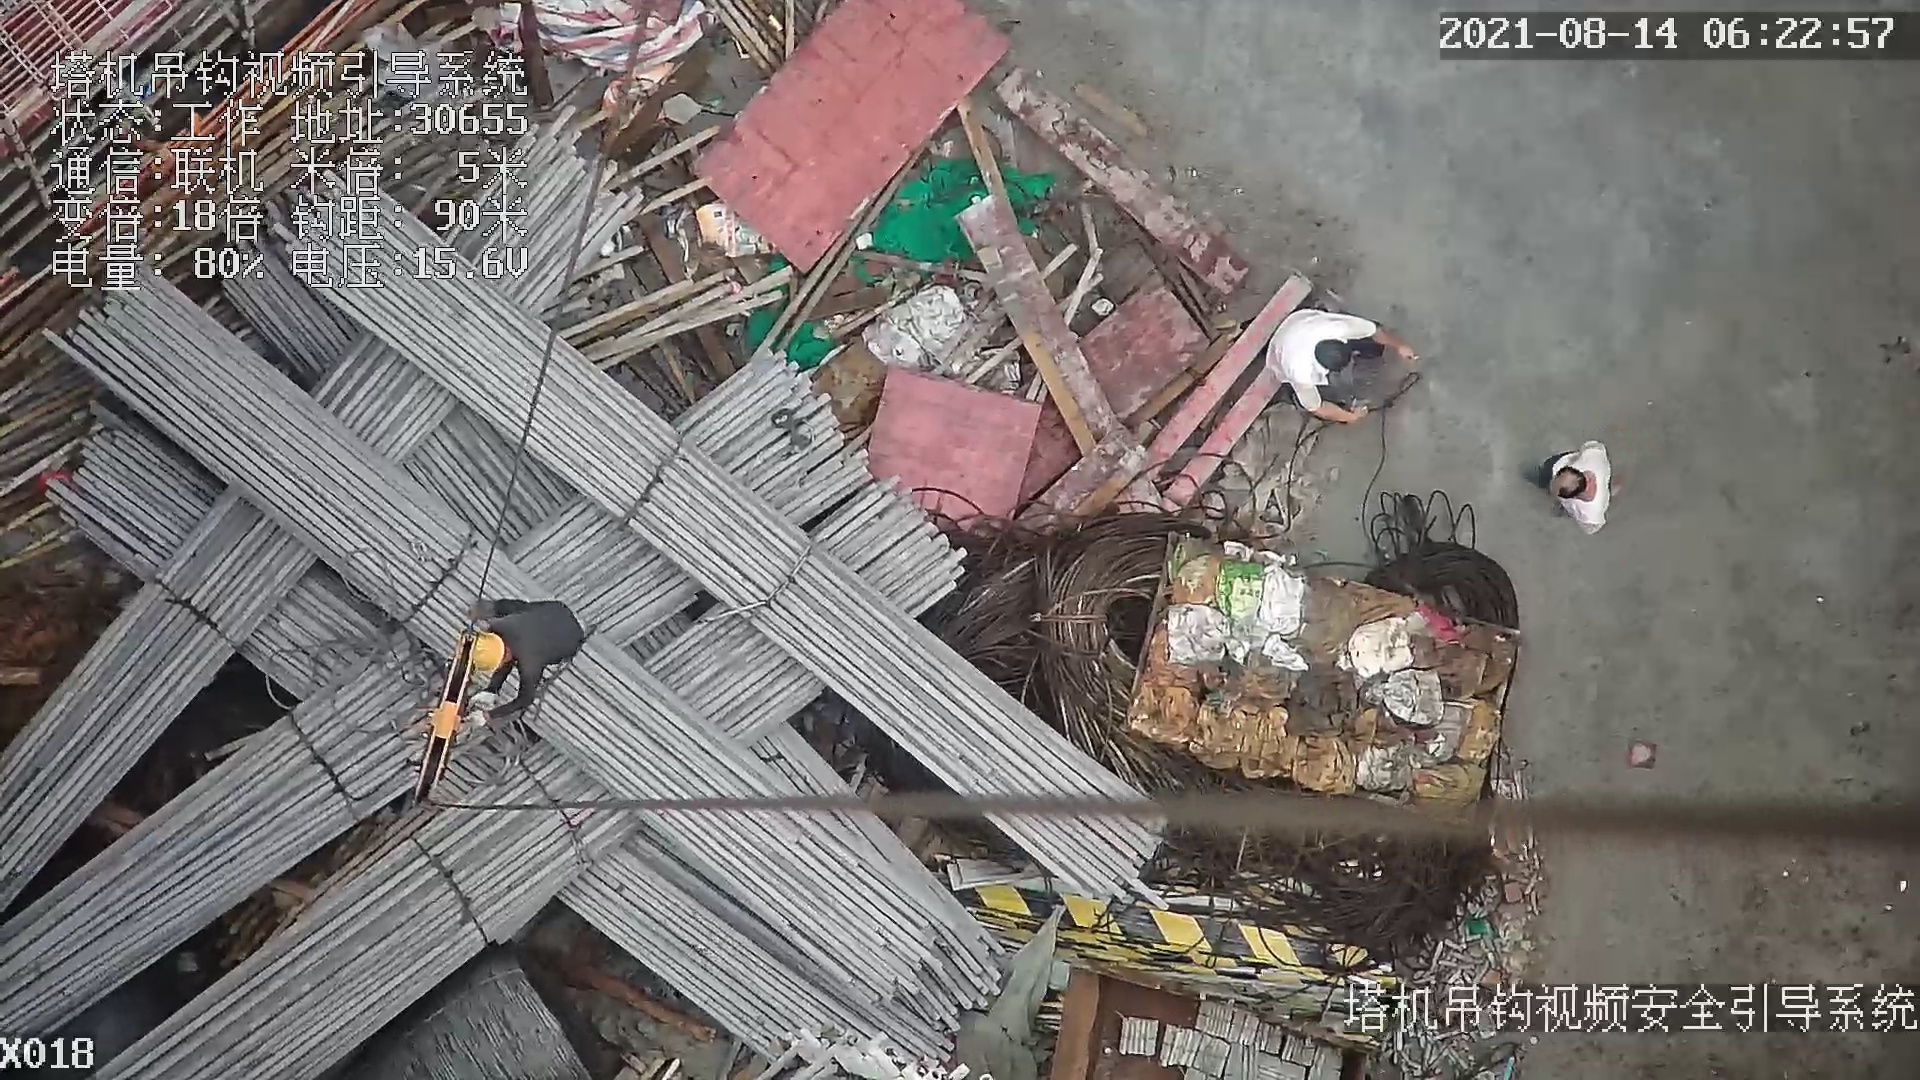board: (677, 1, 1014, 275)
helmet: (470, 632, 508, 674)
hook: (392, 621, 478, 815)
person: (451, 591, 600, 728), (1267, 309, 1422, 433), (1537, 435, 1622, 536)
